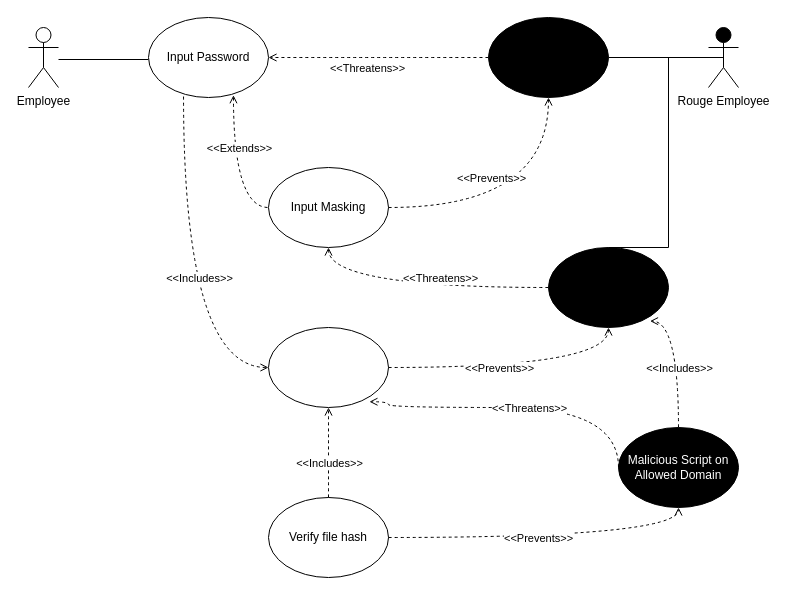
Image size: 787x595. Some labels were removed from this diagram. The shapes that lost their labels are listed below. From the top down, each one's centre as x and y in pixels, then its label:
(548,57): Shoulder-Surf
(608,287): Malicious Script
(328,367): Content Security Policy enforcement
